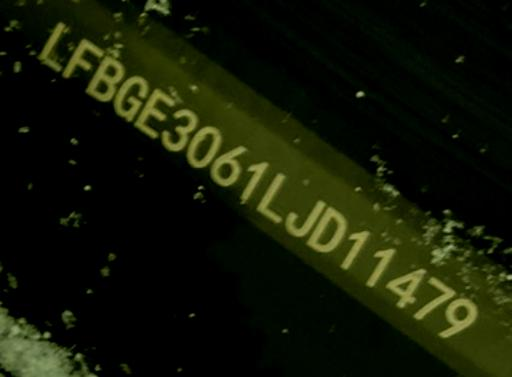letter: (281, 191, 331, 239), (132, 87, 178, 136), (408, 277, 458, 322), (254, 173, 296, 224), (386, 261, 430, 309), (84, 56, 130, 101), (34, 22, 76, 70), (439, 294, 483, 338), (209, 144, 255, 186), (234, 157, 276, 202), (308, 207, 350, 252), (336, 226, 378, 270), (364, 239, 402, 287), (62, 37, 104, 79), (184, 122, 224, 166), (158, 107, 198, 151), (112, 73, 150, 119)
